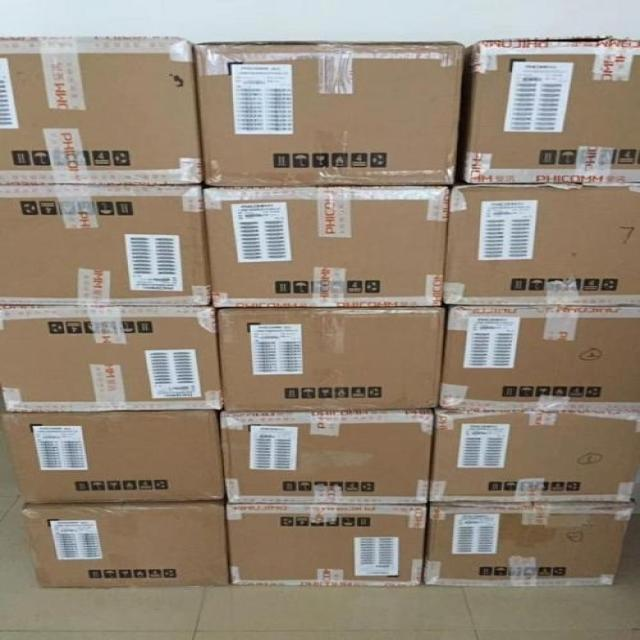box: (196, 41, 467, 189), (0, 37, 202, 187), (203, 187, 450, 308), (456, 37, 639, 184), (0, 188, 213, 307), (441, 182, 639, 305), (217, 307, 447, 412), (440, 307, 639, 413), (220, 409, 436, 504), (0, 412, 222, 502), (427, 408, 639, 502), (23, 502, 228, 588), (424, 502, 633, 586), (227, 503, 426, 586)
